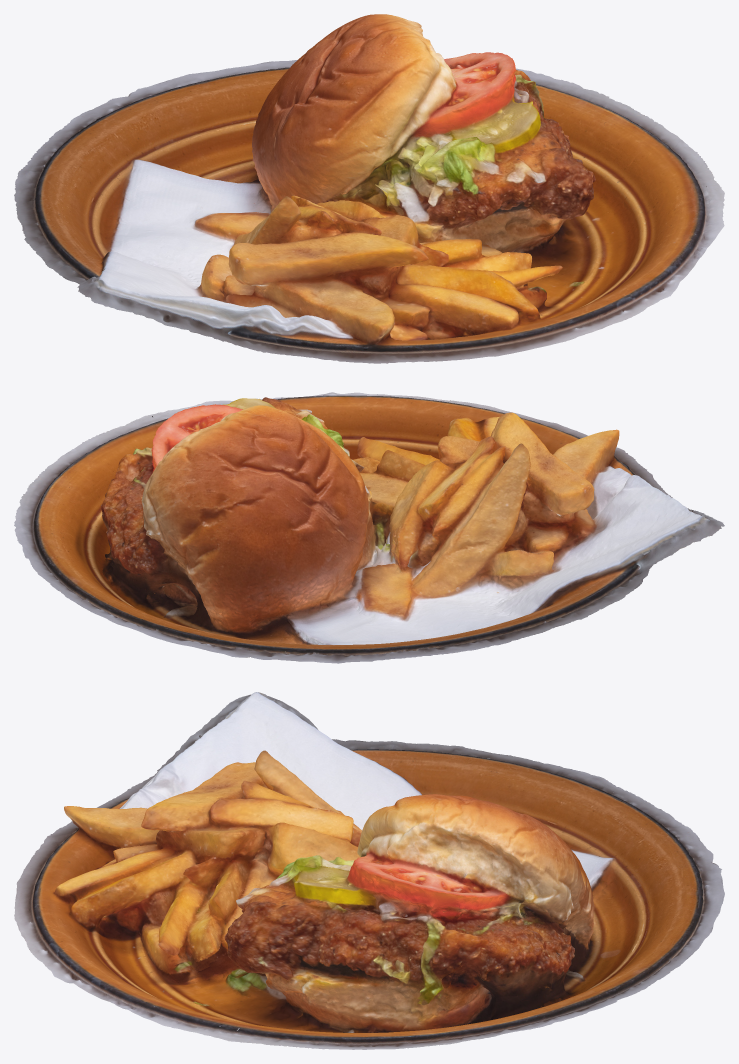
Rendered from burger.glb.
3 renders of one model, top to bottom at view 1: azimuth 30°, elevation 25°; view 2: azimuth 150°, elevation 25°; view 3: azimuth 270°, elevation 25°, orthographic. The views are drawn at different scales.
Visible parts, largest first — view 1: Object_2; view 2: Object_2; view 3: Object_2.
Part boxes in pixels (x1,y1,x2,y2): Object_2: [14, 14, 724, 363]; Object_2: [14, 392, 724, 663]; Object_2: [14, 692, 724, 1049].
Size of the model in its own units: 3.66 by 0.9657 by 3.48.
Materials: 1 (1 with a texture image).
